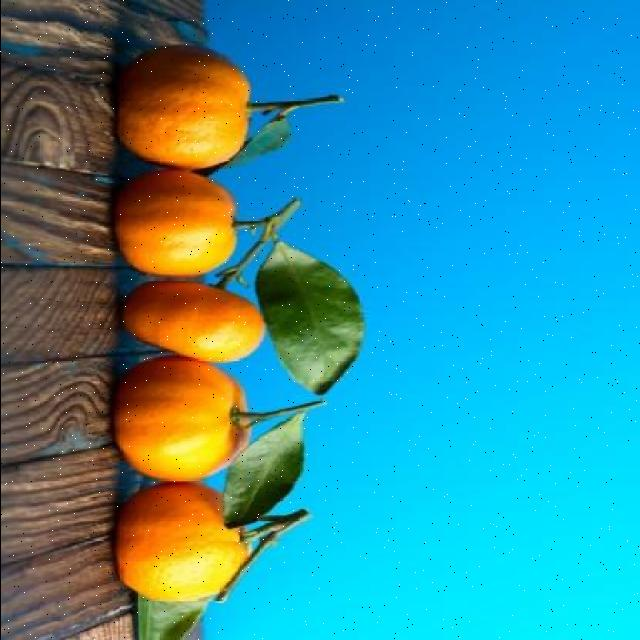Orange: (112, 356, 250, 482), (117, 43, 254, 169), (114, 480, 251, 602), (114, 168, 238, 277), (122, 278, 266, 362)
